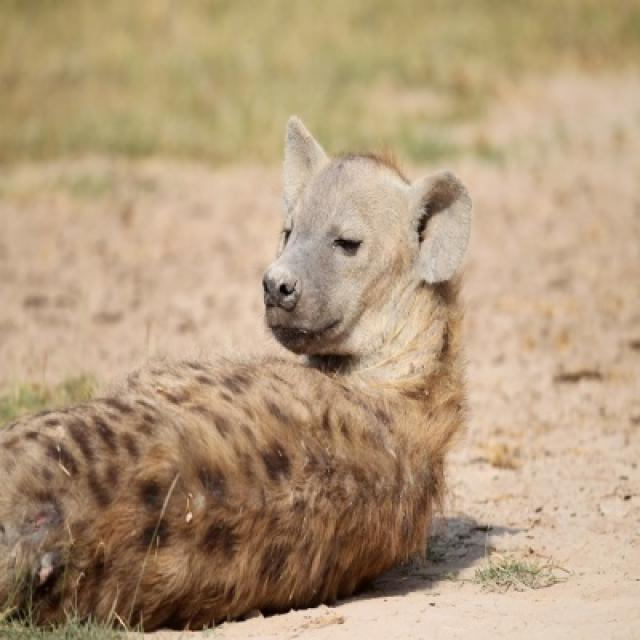hyena: (0, 118, 470, 629)
